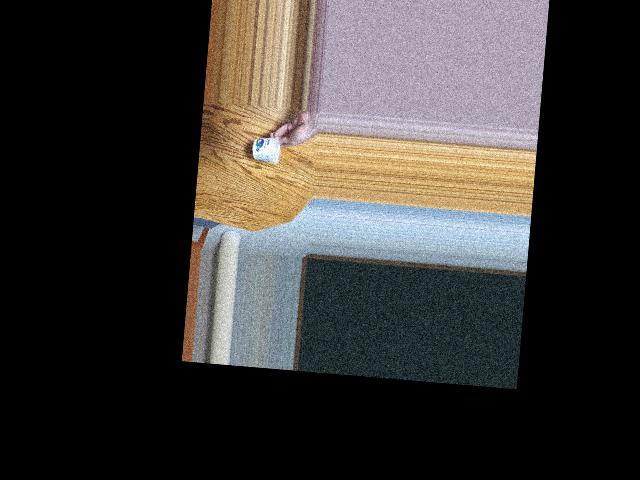cotage: (251, 129, 287, 167)
